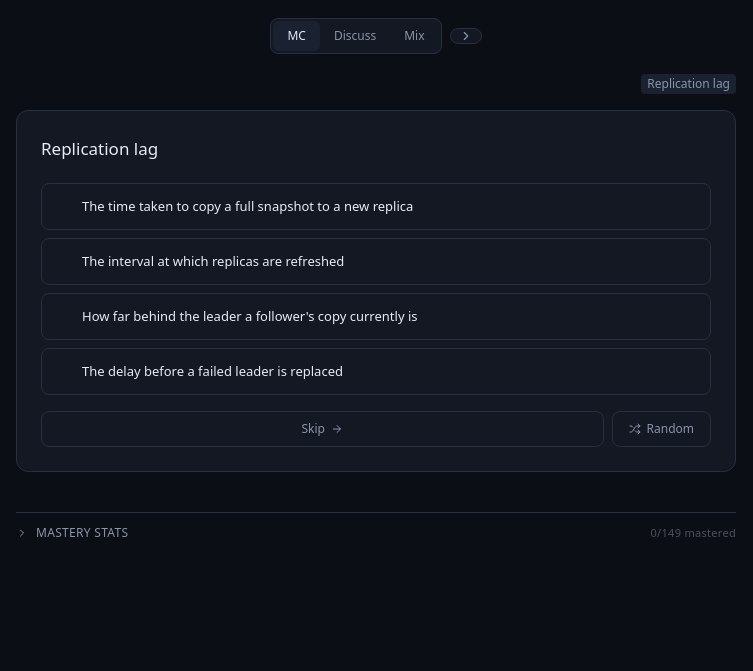
it: DrillSession › offers the review queue only once a question has gone right
What coordinates should you click on to do the following:
click the button named "filters"
I would click on:
 (466, 36)
Its box is [450, 28, 482, 44].
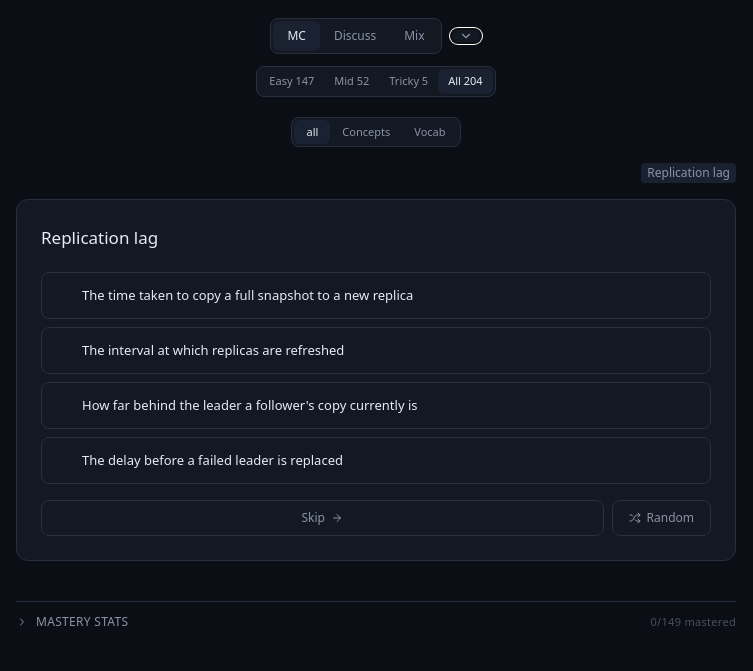
expect the button "Concepts" is shown: met
What coordinates should you click on to do the following:
click the button "Concepts"
I would click on:
 (366, 132)
Its box is [330, 120, 402, 144].
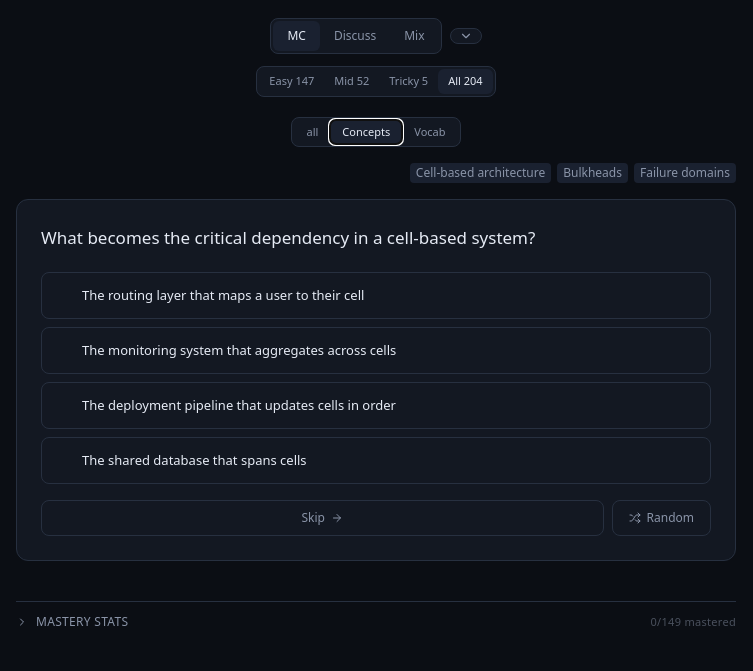
expect the button "review queue" is not shown: met
What coordinates should you click on to do the following:
click the button "The routing layer that maps a user to their cell"
I would click on:
 (223, 295)
Its box is [41, 272, 711, 319].
(page scrolled)
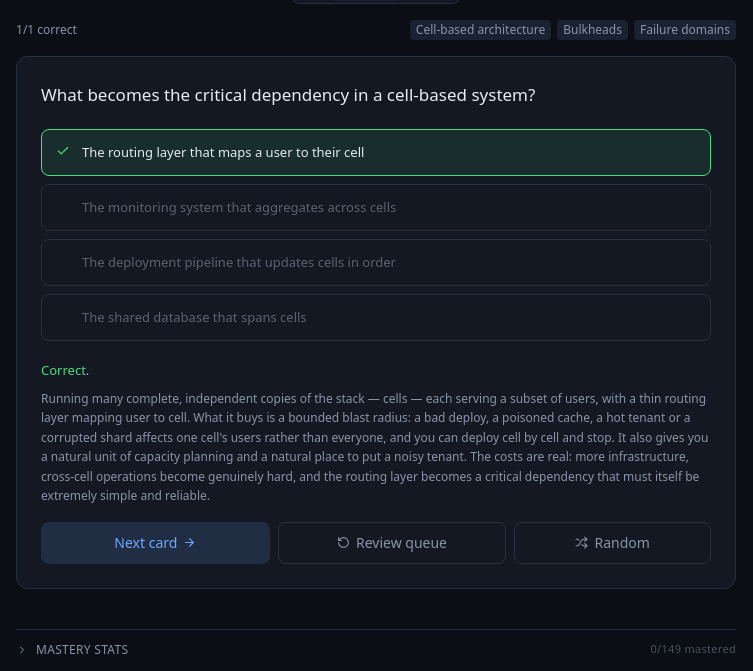
expect the text "Correct." is shown: met, box [41, 361, 89, 379]
expect the button "Review queue" is shown: met, box [278, 522, 506, 564]
